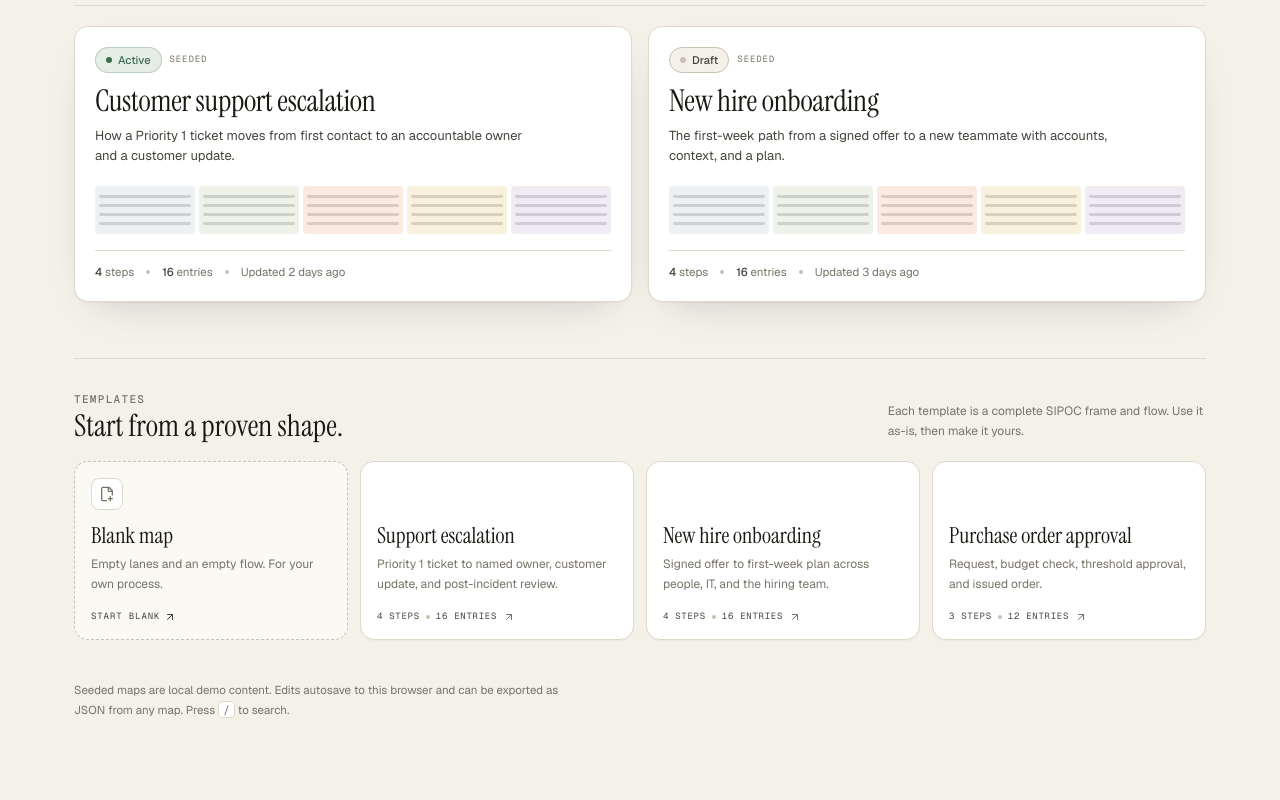
it: dashboard search › starts a new map from a gallery template with the title prefilled
(page scrolled)
What coordinates should you click on to do the following:
click the button with aria-label "Use Purchase order approval template"
I would click on:
 (1069, 551)
Its box is [932,461,1206,640].
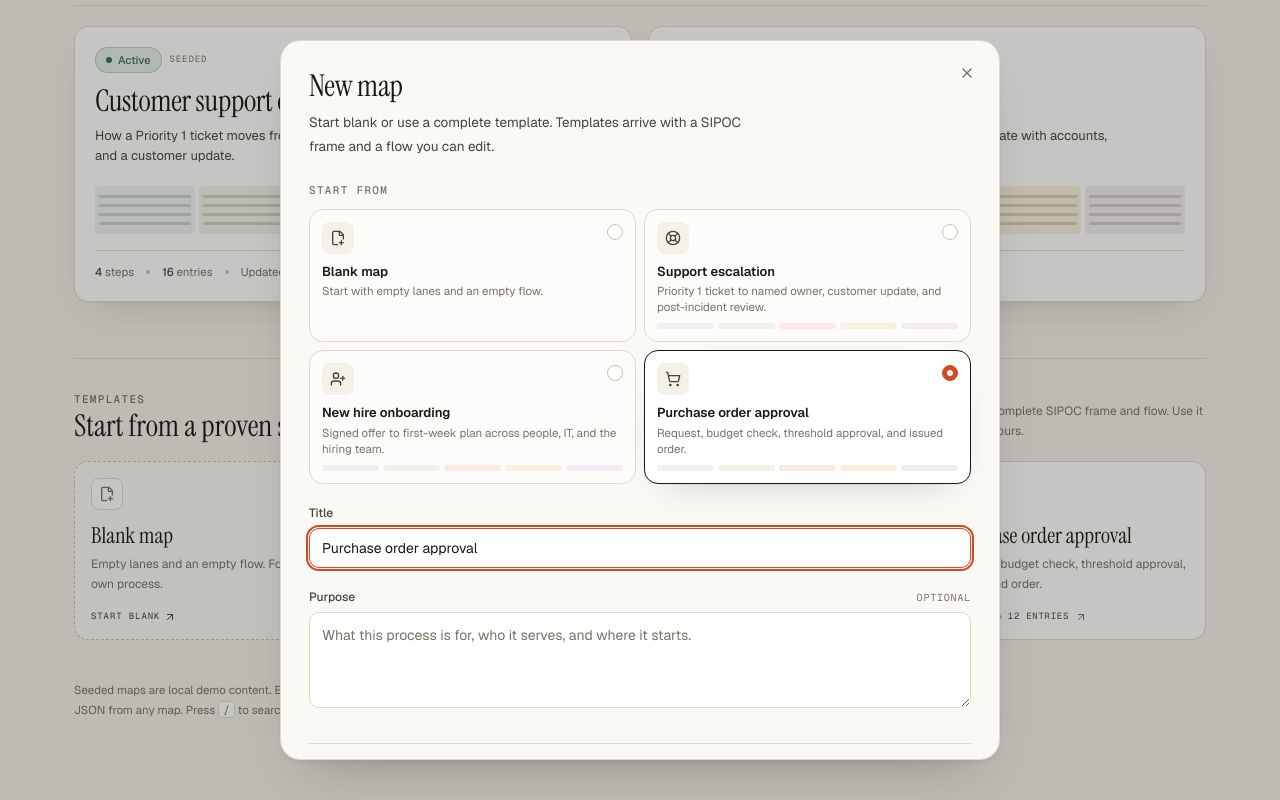
Expected: the heading "New map" is shown, [309,66,403,105]
Expected: the field labelled "Title" holds "Purchase order approval", [309,528,971,568]
Expected: the radio button labelled "Purchase order approval" is checked, [644,350,971,484]
